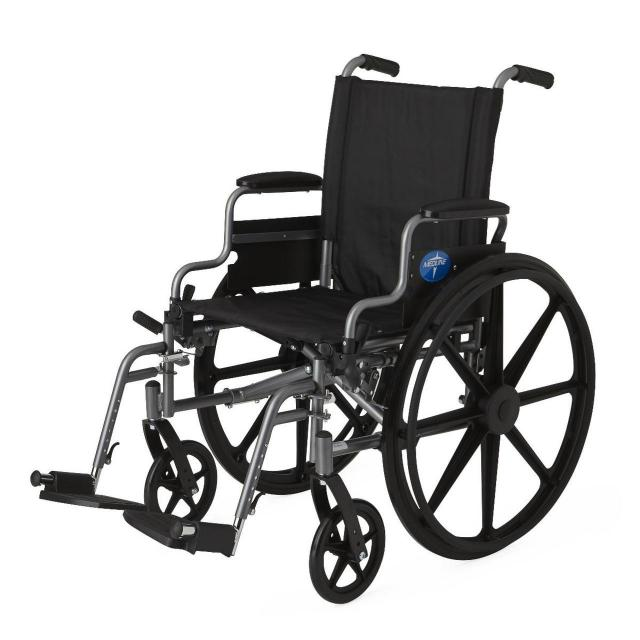wheelchair: (29, 44, 605, 614)
